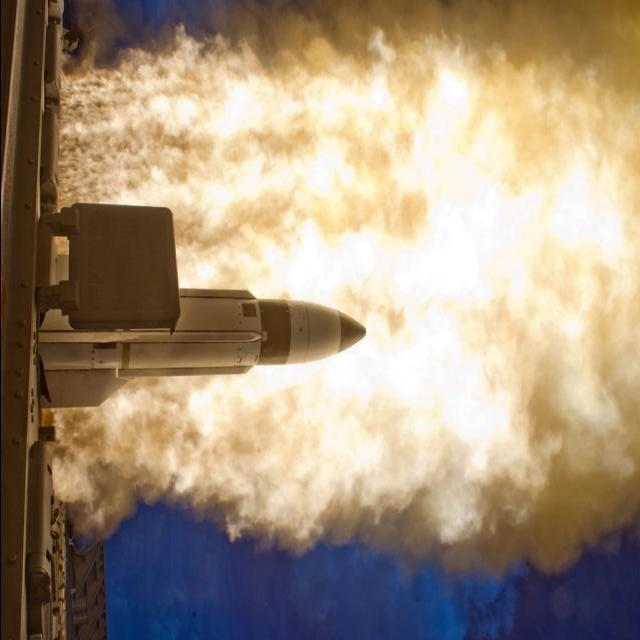missile: (24, 253, 384, 420)
